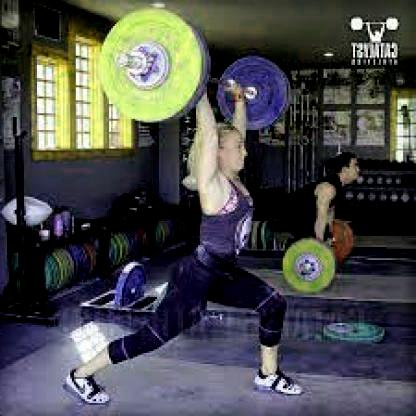Barbell: (109, 50, 132, 72), (293, 263, 309, 277)
